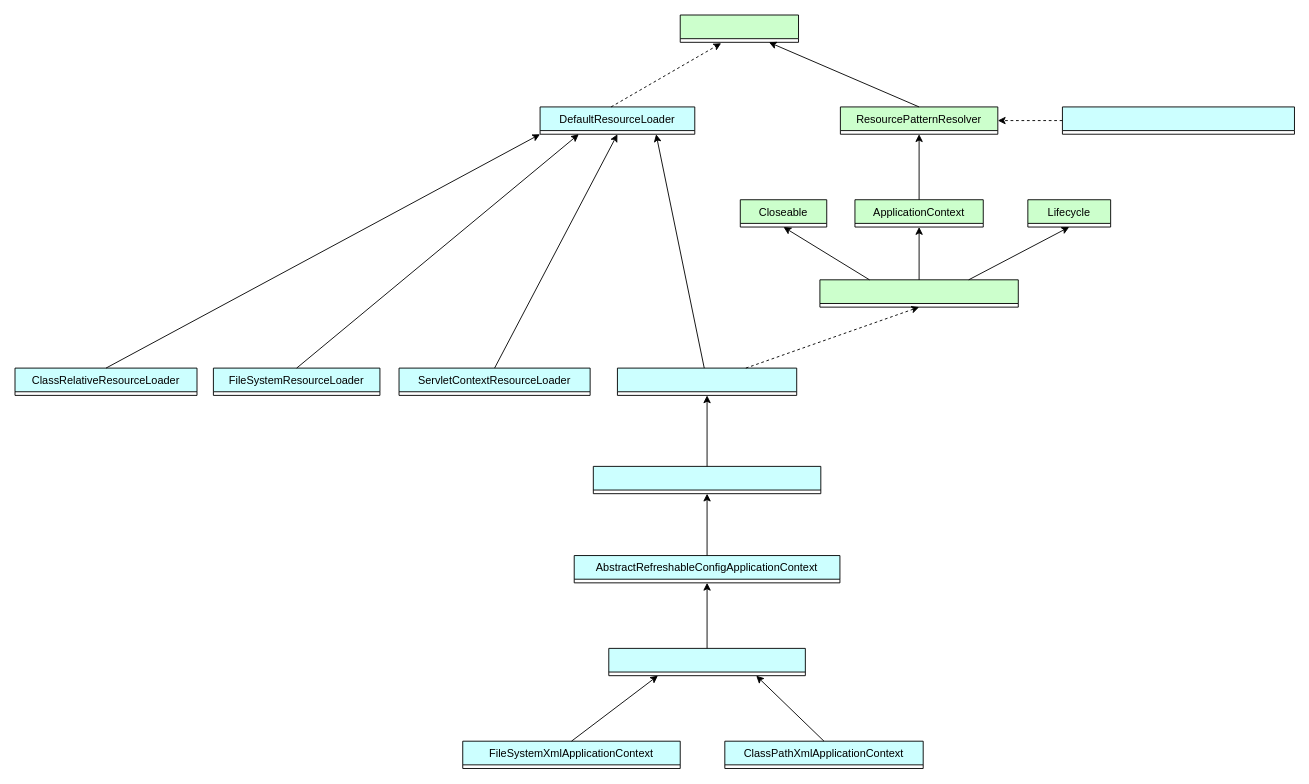
Some shapes in this 1309 by 784 pixel diagram are drawn without their labels. Each missing label, with the centre of its shape:
"AbstractApplicationContext" belongs at pixel 707 381.
"AbstractRefreshableApplicationContext" belongs at pixel 706 479.
"AbstractXmlApplicationContext" belongs at pixel 706 661.
"ConfigurableApplicationContext" belongs at pixel 918 293.
"PathMatchingResourcePatternResolver" belongs at pixel 1178 120.
"ResourceLoader" belongs at pixel 739 28.
